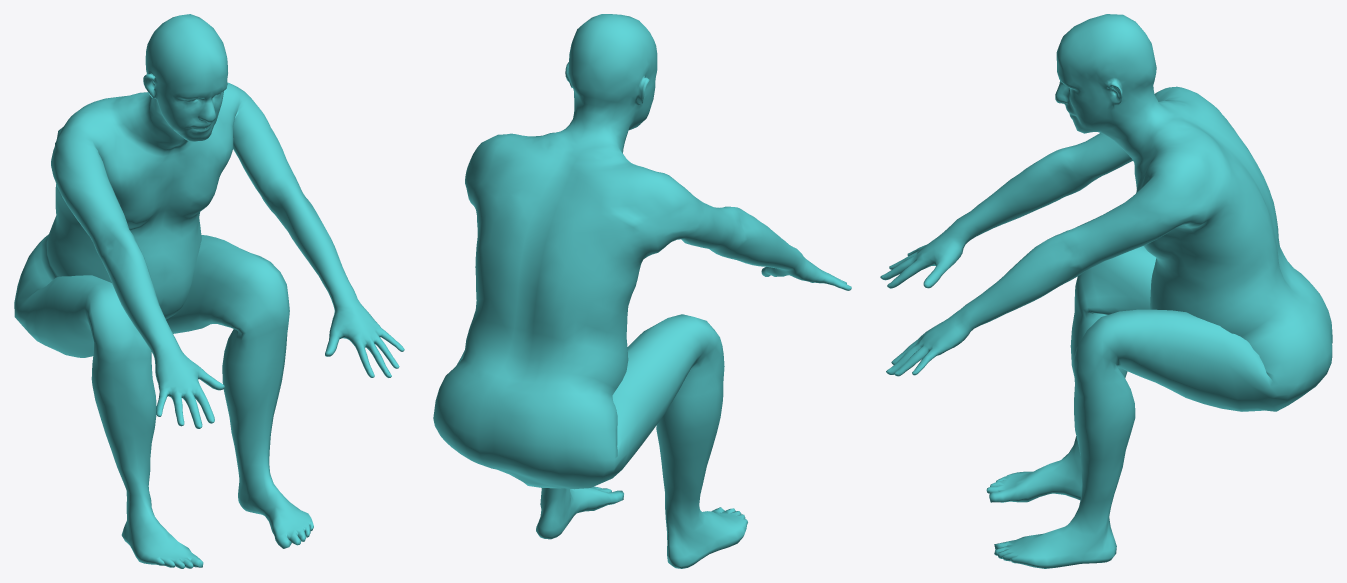
File: squat_male.glb
The picture shows the model from 3 angles, left to right: view 1: azimuth 30°, elevation 25°; view 2: azimuth 150°, elevation 25°; view 3: azimuth 270°, elevation 25°; orthographic projection. The views are drawn at different scales.
Visible parts, largest first — view 1: squat Reference; view 2: squat Reference; view 3: squat Reference.
Part boxes in pixels (x1=…): squat Reference: x1=14, y1=14, x2=404, y2=568; squat Reference: x1=433, y1=14, x2=851, y2=568; squat Reference: x1=880, y1=14, x2=1332, y2=568.
Size of the model in its own units: 0.6208 by 1.2 by 0.9545.
